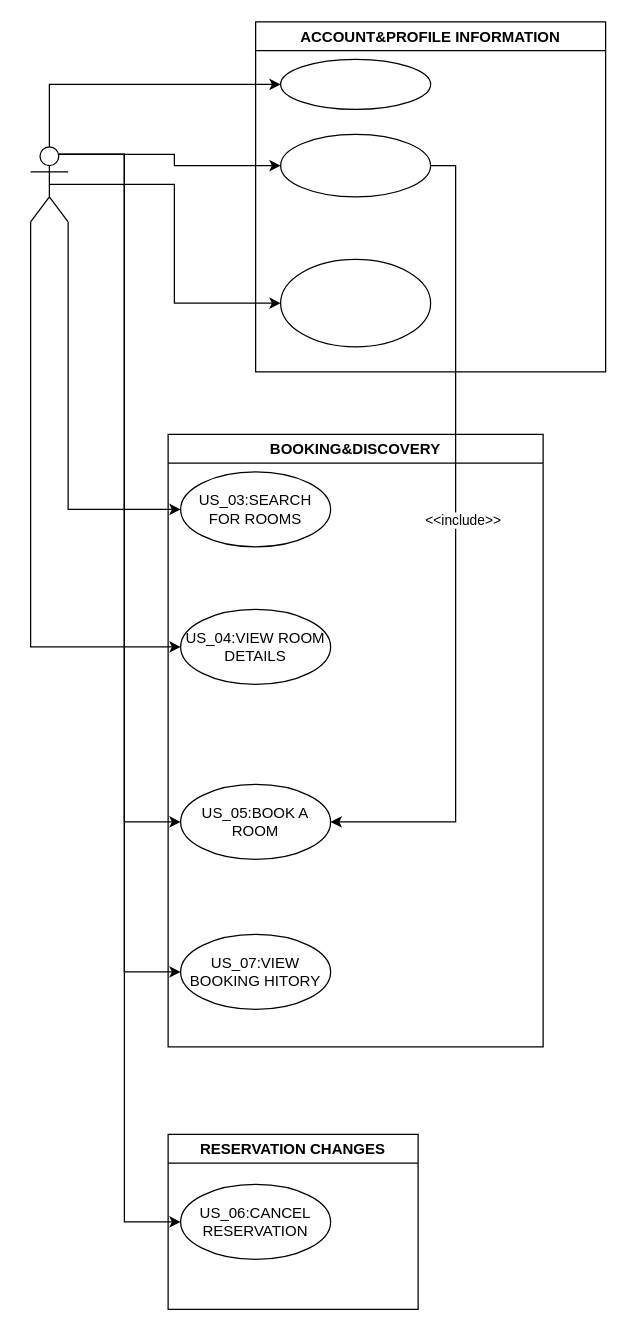
Image size: 628x1331. Some labels were removed from this diagram. The centre of each missing label's shape, as x and y in pixels:
"GUEST" belongs at (48,184).
"US_01:ACCOUNT REGISTRATION" belongs at (355,83).
"US_02:LOGIN TO SYSTEM" belongs at (355,165).
"US_08:UPDATE PROFILE INFORMATION" belongs at (355,302).
